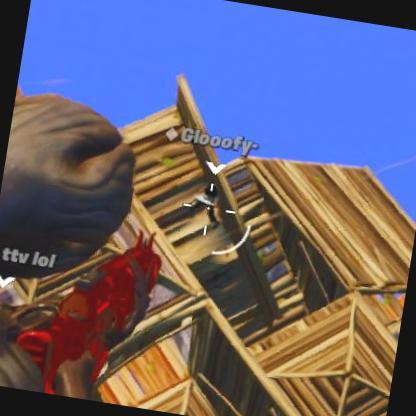person: (195, 182, 229, 224)
